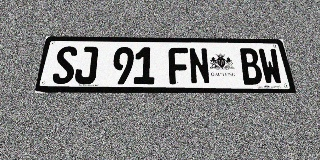1: (134, 47, 154, 84)
9: (112, 47, 134, 84)
B: (238, 48, 264, 85)
F: (168, 47, 190, 84)
J: (74, 46, 99, 84)
N: (188, 48, 211, 84)
S: (51, 46, 78, 84)
W: (257, 48, 284, 85)
